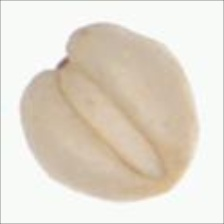L5: (57, 63, 166, 178), (28, 25, 89, 87), (136, 147, 197, 205)
L6: (15, 20, 203, 206)
